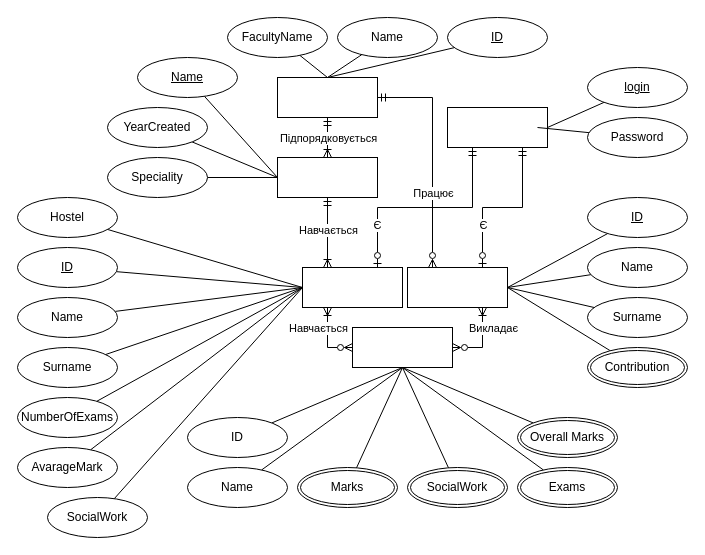
This 705x555 diagram has some shape labels left out. Here are the shapes that lost their labels. From the top down, the centre of each, then its label:
At pixel 327 97: "Кафедра".
At pixel 497 127: "Користувач".
At pixel 327 177: "Група".
At pixel 352 287: "Студент".
At pixel 457 287: "Викладач".
At pixel 402 347: "Курс".
